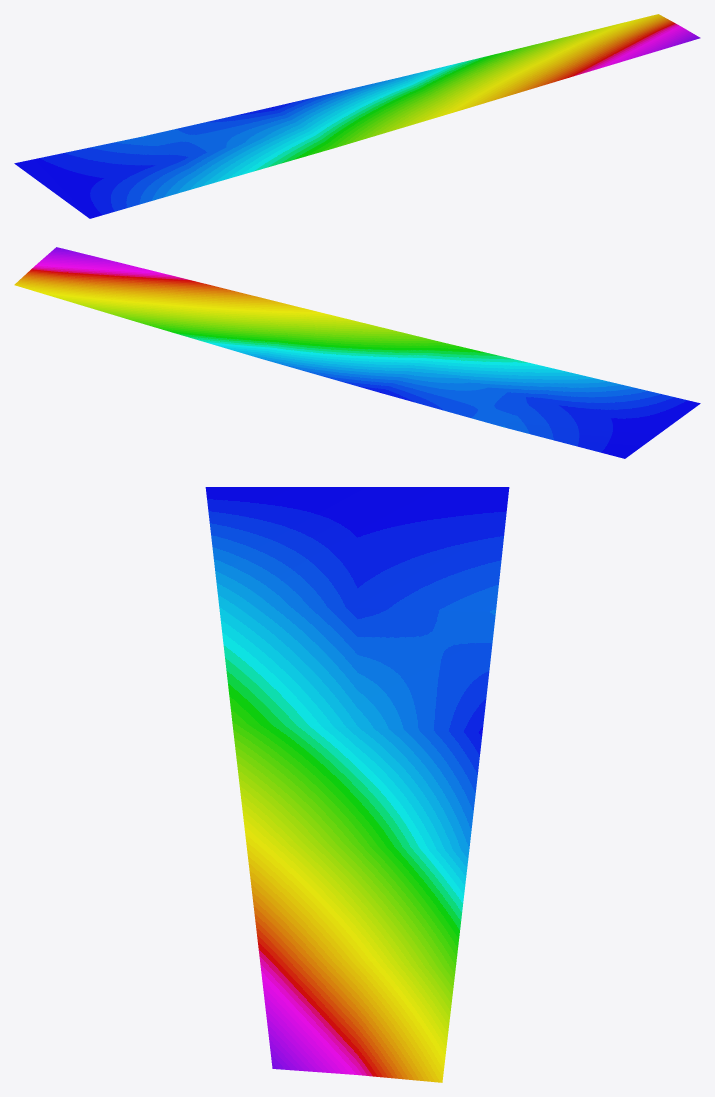
3 views of the same model, one above another, from view 1: azimuth 30°, elevation 25°; view 2: azimuth 150°, elevation 25°; view 3: azimuth 270°, elevation 25° (orthographic). The views are drawn at different scales.
Parts seen in each view (by area): view 1: Elements; view 2: Elements; view 3: Elements.
Part boxes in pixels (x1=…): Elements: x1=14, y1=14, x2=700, y2=218; Elements: x1=14, y1=247, x2=700, y2=458; Elements: x1=205, y1=487, x2=509, y2=1082.
Bounding box in the file's own units: 1 × 0.0254 × 0.2095.
Materials: 1 (1 with a texture image).
